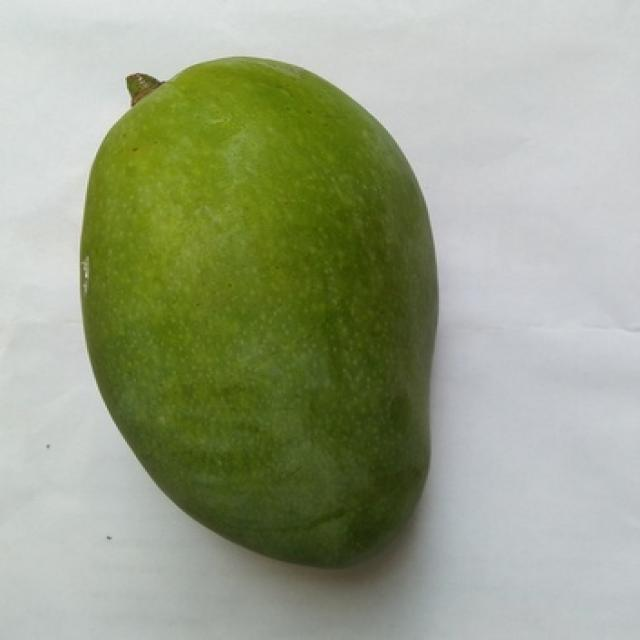Mango: (82, 60, 435, 566)
